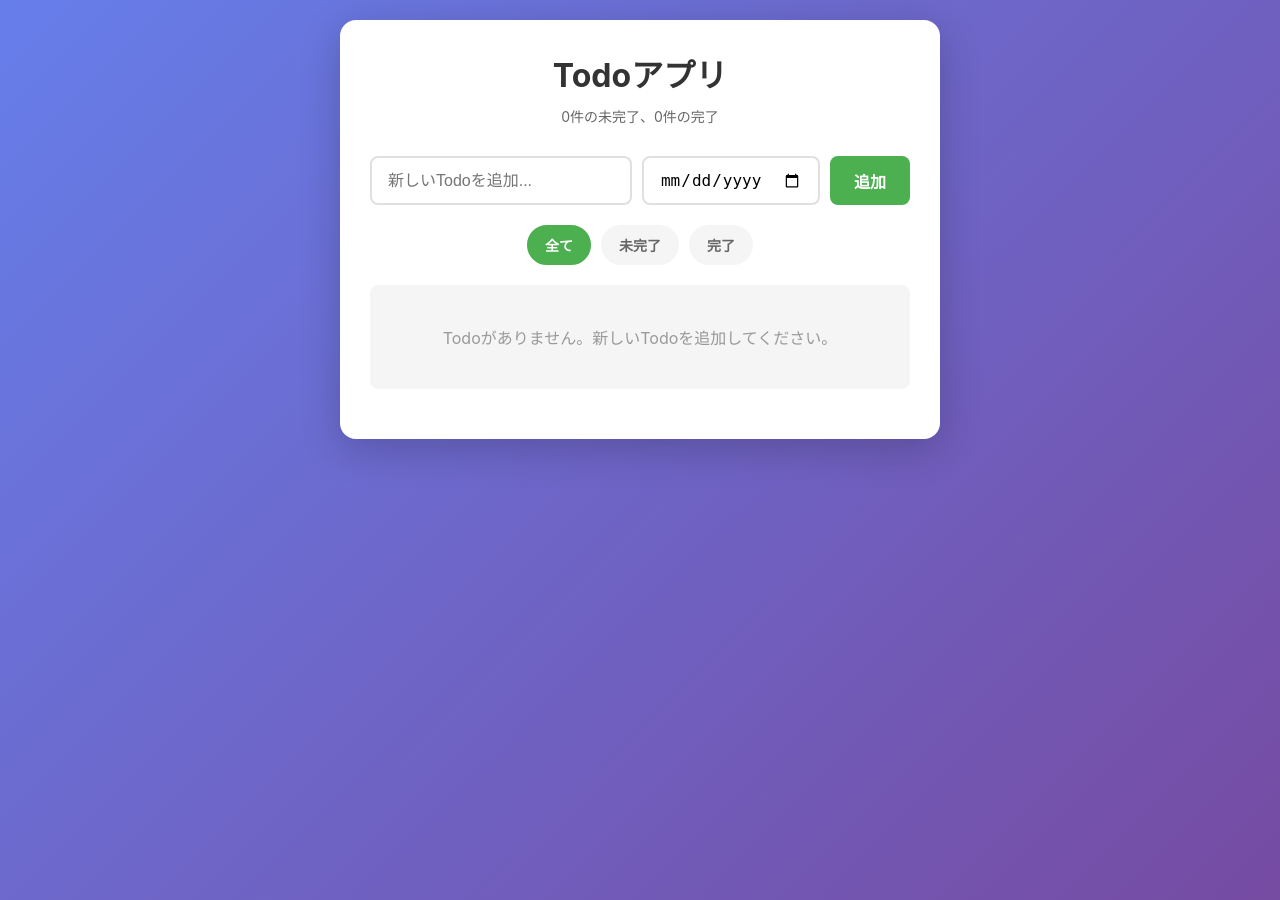
Test case: App › deletes a todo
Type "削除するTodo" into the field with placeholder "新しいTodoを追加...".
click(501, 180); type("削除するTodo")  # box 370,156 -> 632,205
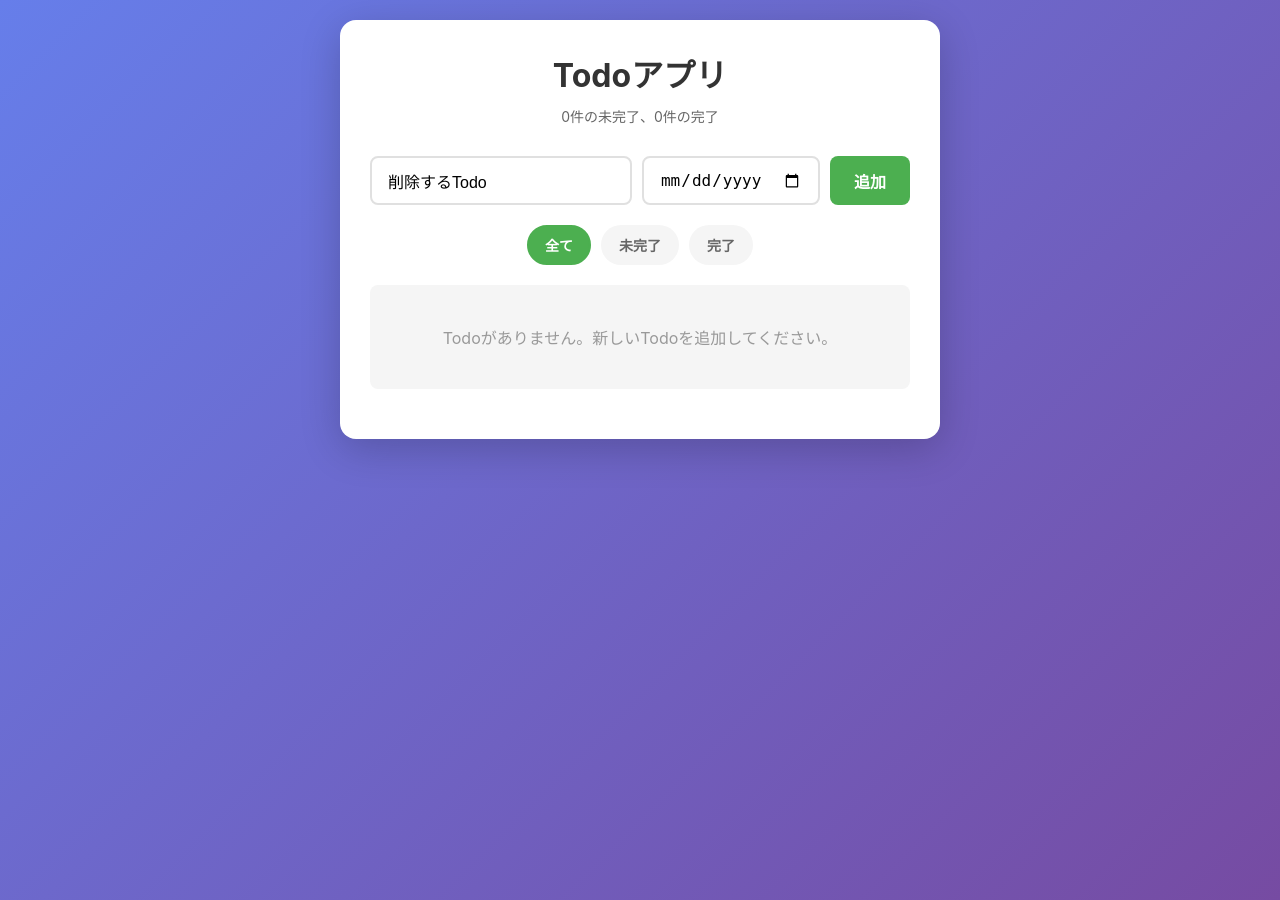
Click the button "追加".
click(870, 180)  # box 830,156 -> 910,205
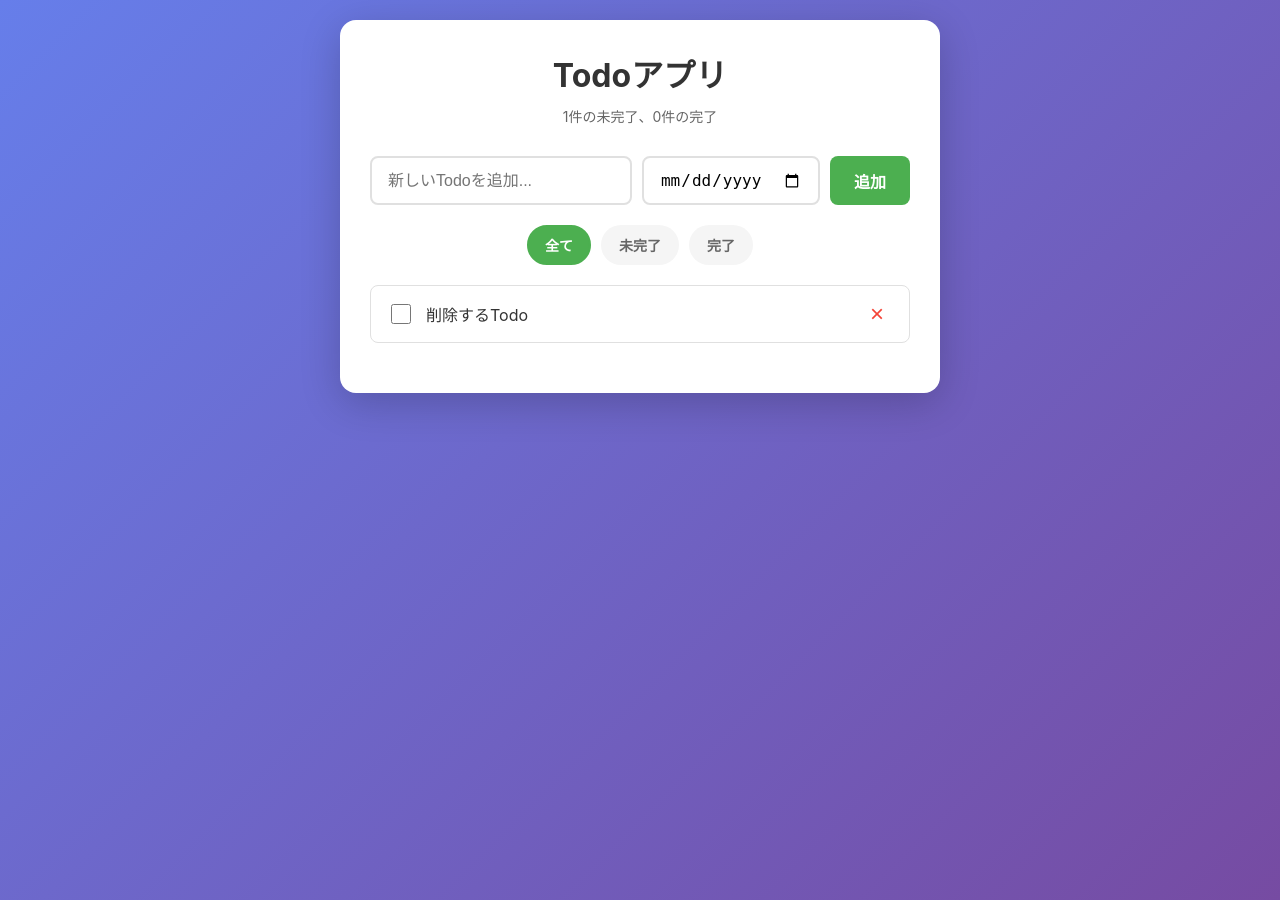
Expected: the text "削除するTodo" is shown, 426,305 -> 528,325
Click the button named "削除".
click(877, 314)  # box 861,298 -> 893,330
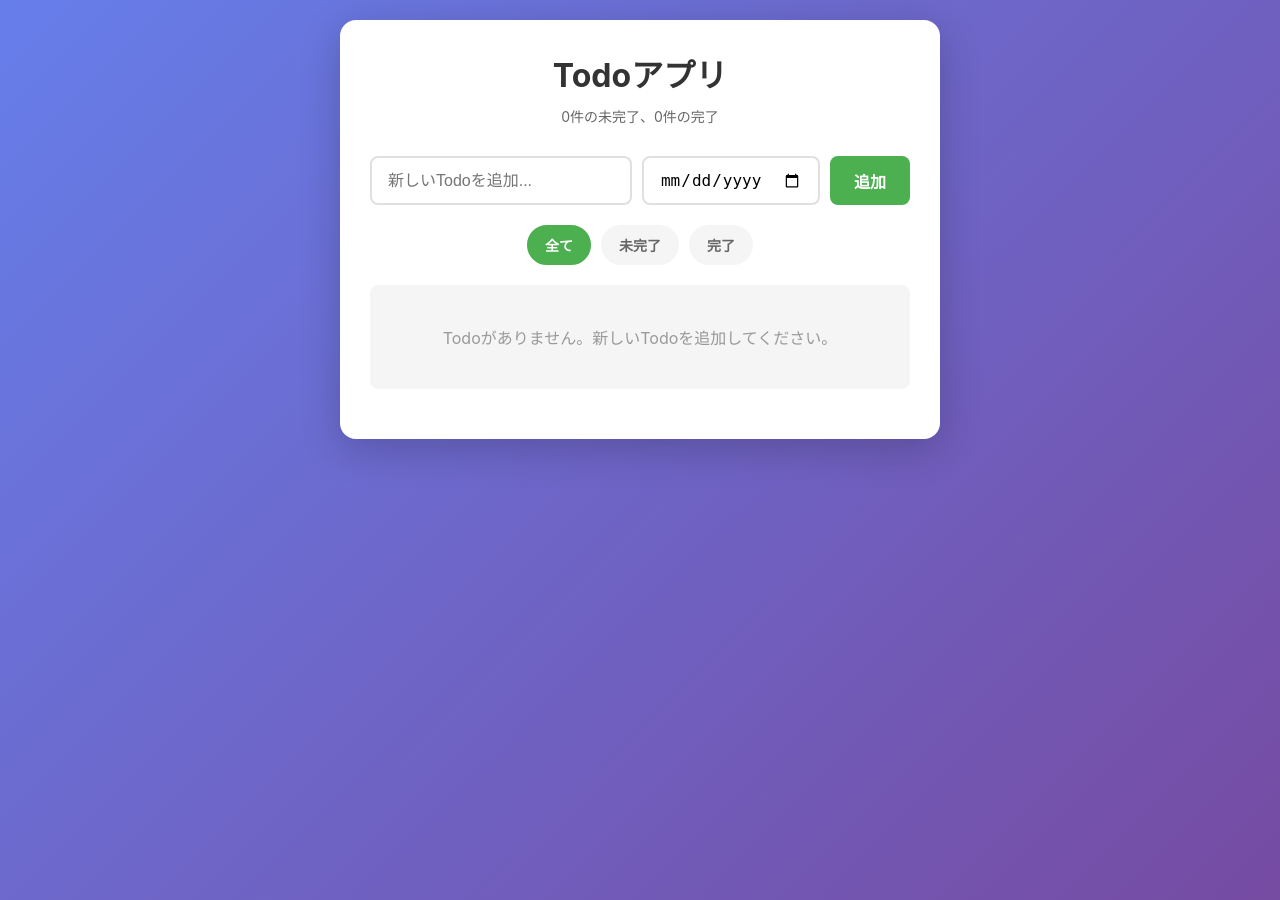
Expected: the text "削除するTodo" is gone
